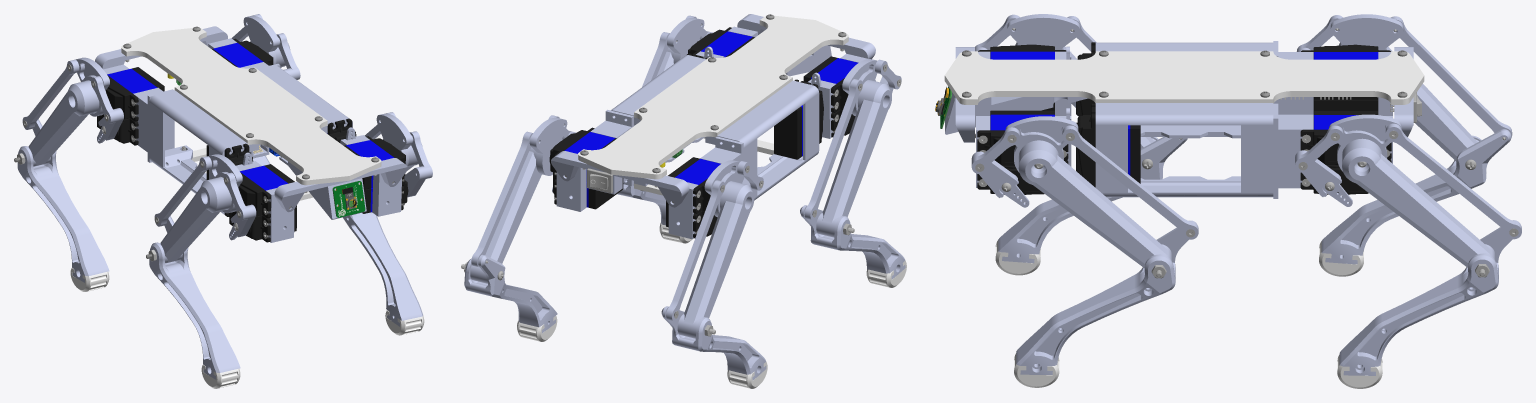
File: KangalVariant v1.fbx
The picture shows the model from 3 angles, left to right: view 1: azimuth 30°, elevation 25°; view 2: azimuth 150°, elevation 25°; view 3: azimuth 270°, elevation 25°; orthographic projection. The views are drawn at different scales.
Visible parts, largest first — view 1: Body1 (×33), Body5 (×8), Body3 (×4); view 2: Body1 (×34), Body3 (×4), Body5 (×2); view 3: Body1 (×34), Body5 (×4), Body3 (×3).
Boxes of the visible parts, bbox=[...] form: Body1 (×33): bbox=[17, 15, 432, 388]; Body5 (×8): bbox=[97, 38, 405, 242]; Body3 (×4): bbox=[107, 43, 394, 190]; Body1 (×34): bbox=[464, 14, 906, 388]; Body3 (×4): bbox=[564, 31, 858, 184]; Body5 (×2): bbox=[549, 27, 731, 179]; Body1 (×34): bbox=[944, 14, 1521, 388]; Body5 (×4): bbox=[977, 103, 1391, 194]; Body3 (×3): bbox=[990, 51, 1378, 130].
Size of the model in its own units: 209 by 180 by 364.
